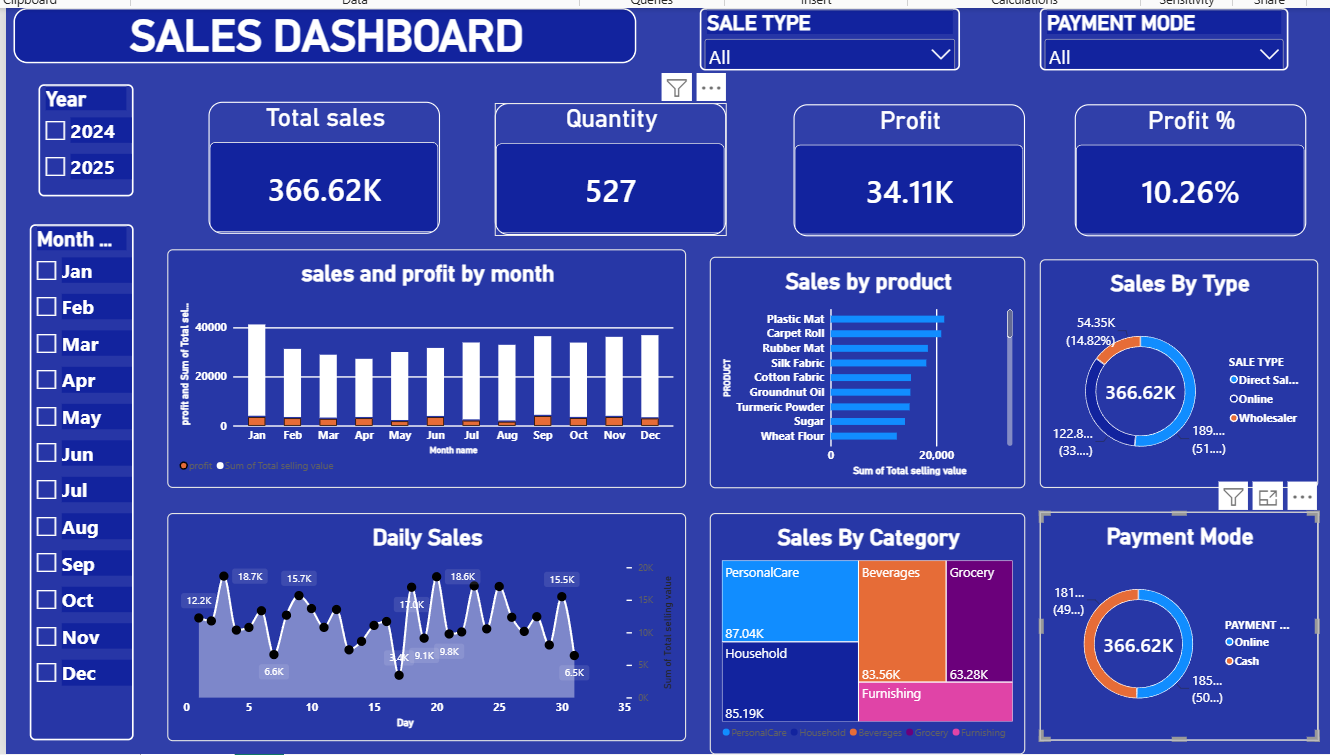

The page's visual inventory and layout, read from the dashboard file:
{"tool":"powerbi","page":{"name":"Page 1","canvas":[1920,1080],"ordinal":0},"visuals":[{"type":"textbox","title":"SALES DASHBOARD","box":[10.3,0,901.5,80.3],"z":0},{"type":"slicer","fields":{"Values":["InputData.Month name"]},"box":[35,312.9,150.3,747.2],"z":1000},{"type":"slicer","fields":{"Values":["InputData.Year"]},"box":[47.3,111.1,137.9,162.6],"z":2000},{"type":"slicer","fields":{"Values":["InputData.SALE TYPE"]},"box":[1004.5,0,376.7,90.6],"z":3000},{"type":"slicer","fields":{"Values":["InputData.PAYMENT MODE"]},"box":[1496.4,0,360.2,90.6],"z":4000},{"type":"cardVisual","title":"Total sales","fields":{"Data":["Sum(InputData.Total selling value)"]},"box":[292.3,135.8,335.5,191.4],"z":5000},{"type":"cardVisual","title":"Quantity","fields":{"Data":["CountNonNull(InputData.QUANTITY)"]},"box":[708.1,137.9,335.5,191.4],"z":6000},{"type":"cardVisual","title":"Profit","fields":{"Data":["InputData.profit"]},"box":[1140.3,140,335.5,191.4],"z":7000},{"type":"cardVisual","title":"Profit %","fields":{"Data":["InputData.profit %"]},"box":[1547.9,140,335.5,191.4],"z":8000},{"type":"columnChart","title":"sales and profit by month","fields":{"Category":["InputData.Month name"],"Y":["InputData.profit","Sum(InputData.Total selling value)"]},"box":[232.6,349.9,751.3,345.8],"z":9000},{"type":"areaChart","title":"Daily Sales","fields":{"Category":["InputData.Day"],"Y2":["Sum(InputData.Total selling value)"]},"box":[232.6,730.7,751,330],"z":10000},{"type":"clusteredBarChart","title":"Sales by product","fields":{"Category":["InputData.PRODUCT"],"Y":["Sum(InputData.Total selling value)"]},"box":[1018.9,360.2,456.9,335.5],"z":11000},{"type":"treemap","title":"Sales By Category","fields":{"Group":["MasterData.CATEGORY"],"Values":["Sum(InputData.Total selling value)"]},"box":[1018.9,730.7,456.9,349.9],"z":11001},{"type":"donutChart","title":"Sales By Type ","fields":{"Category":["InputData.SALE TYPE"],"Y":["Sum(InputData.Total selling value)"]},"box":[1496.4,364.3,403.4,331.4],"z":11002},{"type":"donutChart","title":"Payment Mode","fields":{"Category":["InputData.PAYMENT MODE"],"Y":["Sum(InputData.Total selling value)"]},"box":[1496.4,728.6,403.4,331.4],"z":11003}]}

Visuals, with their boxes in screenshot pixels (x1, y1, x2, y2):
"SALES DASHBOARD" textbox: bbox=[10, 7, 626, 62]
slicer - InputData.Month name: bbox=[27, 221, 130, 731]
slicer - InputData.Year: bbox=[36, 83, 130, 194]
slicer - InputData.SALE TYPE: bbox=[690, 7, 947, 69]
slicer - InputData.PAYMENT MODE: bbox=[1026, 7, 1272, 69]
"Total sales" cardVisual: bbox=[203, 100, 432, 230]
"Quantity" cardVisual: bbox=[487, 101, 716, 232]
"Profit" cardVisual: bbox=[782, 103, 1012, 233]
"Profit %" cardVisual: bbox=[1061, 103, 1290, 233]
"sales and profit by month" columnChart: bbox=[162, 246, 676, 482]
"Daily Sales" areaChart: bbox=[162, 506, 675, 732]
"Sales by product" clusteredBarChart: bbox=[700, 253, 1012, 482]
"Sales By Category" treemap: bbox=[700, 506, 1012, 745]
"Sales By Type " donutChart: bbox=[1026, 256, 1301, 482]
"Payment Mode" donutChart: bbox=[1026, 505, 1301, 731]
